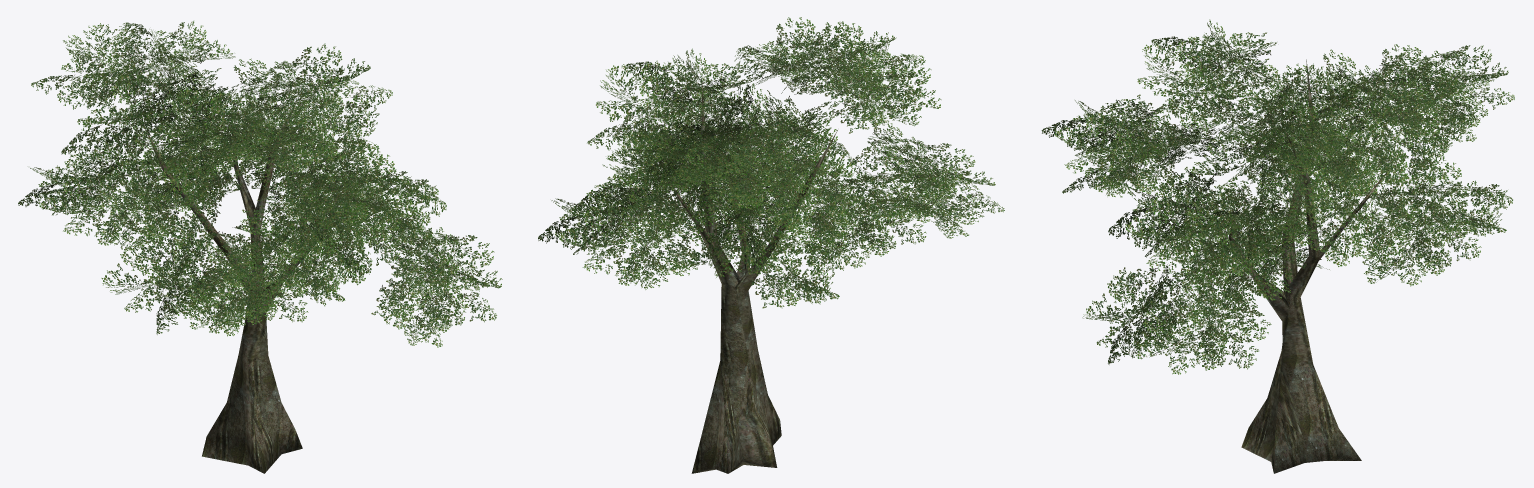
Rendered from hill_tree_bright_green.fbx.
3 views of the same model, side by side, from view 1: azimuth 30°, elevation 25°; view 2: azimuth 150°, elevation 25°; view 3: azimuth 270°, elevation 25° (orthographic). The views are drawn at different scales.
Parts seen in each view (by area): view 1: leaf_hill_tree_large_brigh_mesh, trunk_hill_tree_large_brigh_mesh.001; view 2: leaf_hill_tree_large_brigh_mesh, trunk_hill_tree_large_brigh_mesh.001; view 3: leaf_hill_tree_large_brigh_mesh, trunk_hill_tree_large_brigh_mesh.001.
Part boxes in pixels (x1,y1,x2,y2): leaf_hill_tree_large_brigh_mesh: (18,21,502,347); trunk_hill_tree_large_brigh_mesh.001: (143,97,345,473); leaf_hill_tree_large_brigh_mesh: (538,17,1004,308); trunk_hill_tree_large_brigh_mesh.001: (666,85,837,473); leaf_hill_tree_large_brigh_mesh: (1041,19,1514,374); trunk_hill_tree_large_brigh_mesh.001: (1228,59,1389,473).
Size of the model in its own units: 26.06 by 24.83 by 27.17.
Materials: 2 (2 with a texture image).
